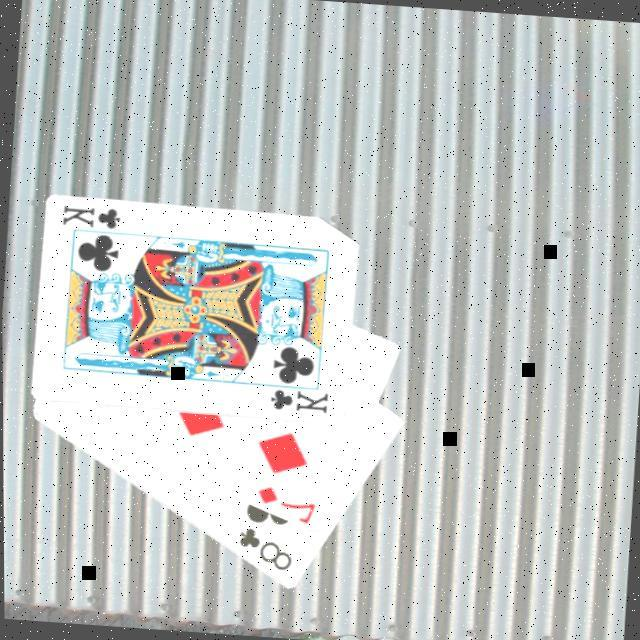7D: (252, 483, 320, 526)
8C: (234, 524, 299, 576)
KC: (60, 202, 132, 241), (261, 381, 332, 418)
